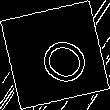O_NW: (22, 23, 88, 87)
